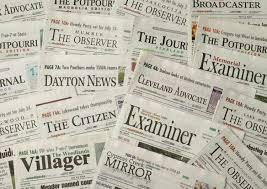Printing industry: (2, 3, 267, 189)
